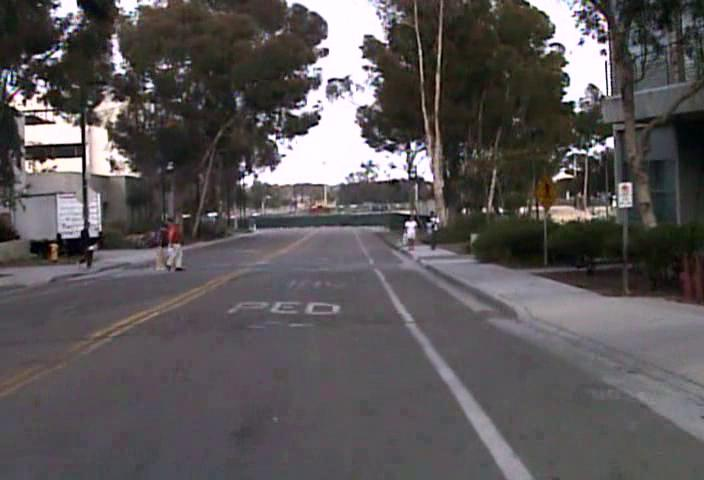pedestrianCrossing: (528, 170, 559, 211)
